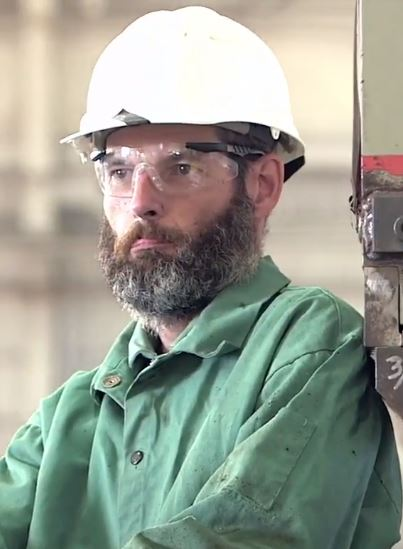Safety Helmet: (58, 4, 314, 324)
